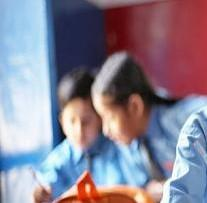cheating: (26, 33, 165, 203)
